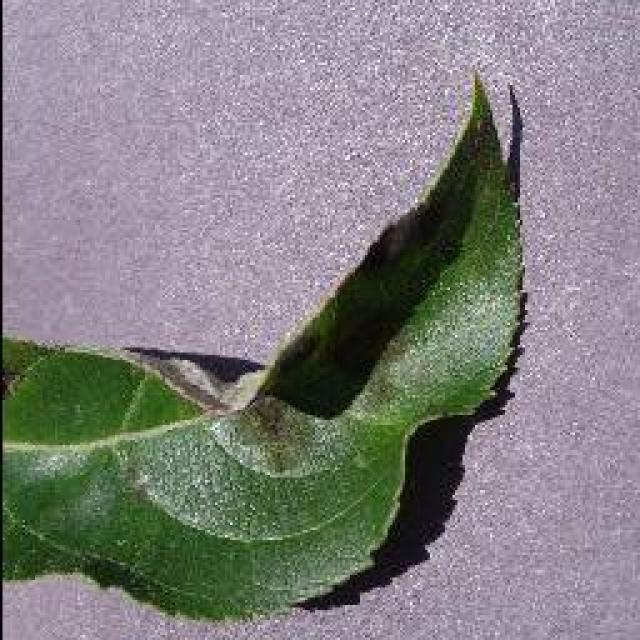apple scab disease: (0, 65, 528, 625)
